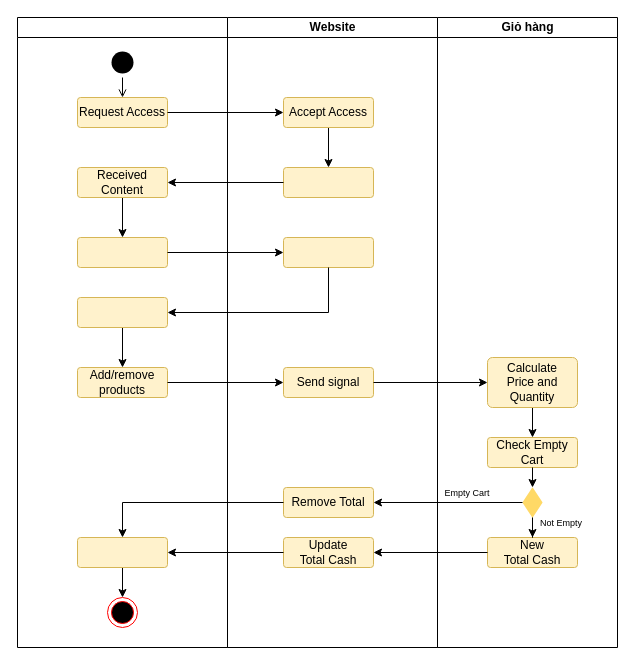
This 635x665 diagram has some shape labels left out. The shapes that lost their labels are listed below. From the top down, each one's box as (x1, y1, x2, y2) in pixels, then its label:
(282, 166, 374, 198): Upload content
(76, 236, 168, 268): Click a tab/item
(282, 236, 374, 268): Change page
(76, 296, 168, 328): New page displayed
(16, 16, 228, 648): Người mua
(76, 536, 168, 568): New Total Displayed
